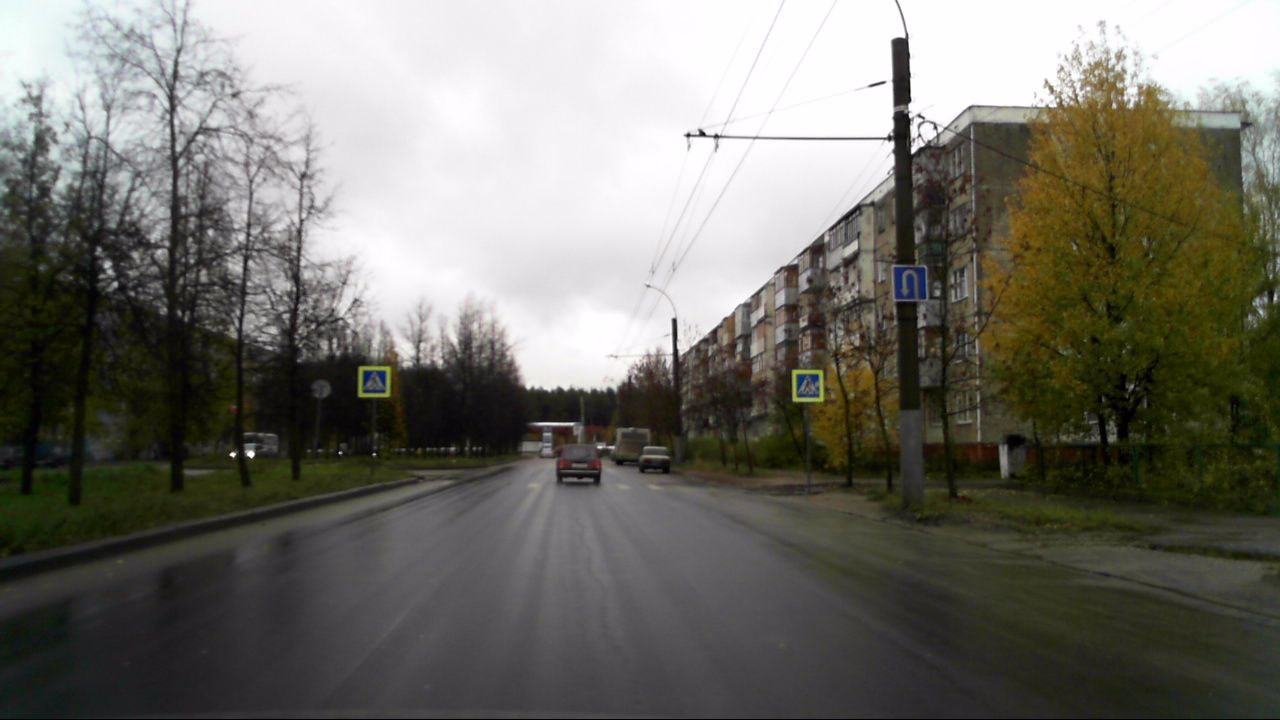U-turn: (893, 266, 927, 300)
